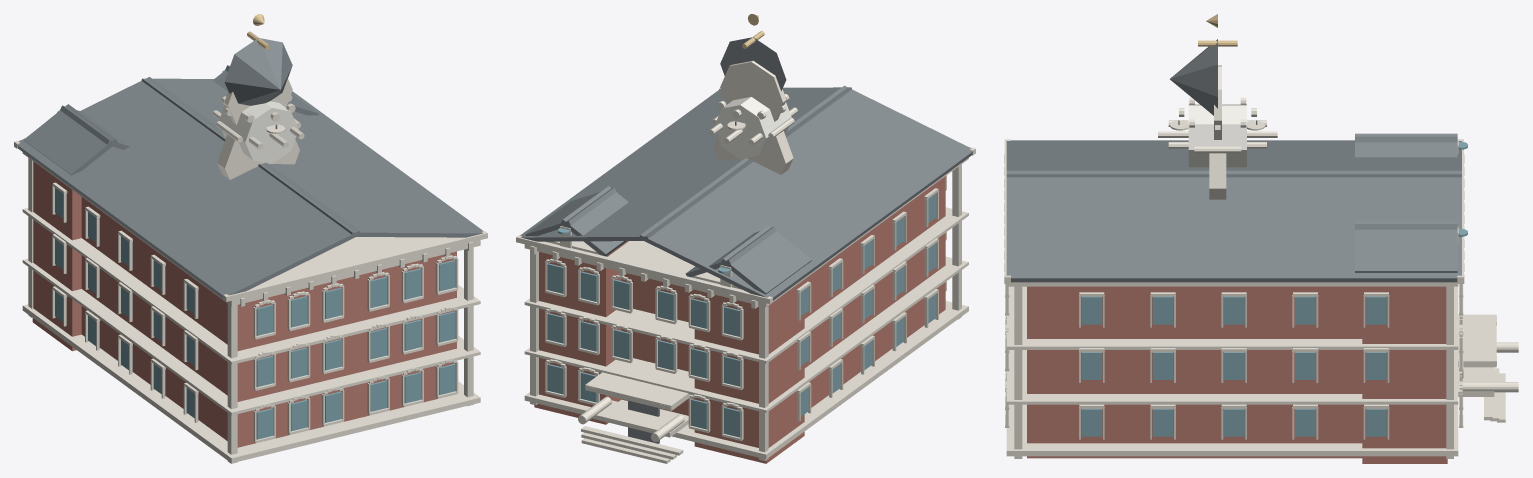
File: courthouse.glb
The picture shows the model from 3 angles, left to right: view 1: azimuth 30°, elevation 25°; view 2: azimuth 150°, elevation 25°; view 3: azimuth 270°, elevation 25°; orthographic projection. The views are drawn at different scales.
Parts seen in each view (by area): view 1: courthouse_roof, courthouse_wood, courthouse_red, courthouse_glass, courthouse_metal; view 2: courthouse_roof, courthouse_wood, courthouse_red, courthouse_glass, courthouse_metal; view 3: courthouse_roof, courthouse_red, courthouse_wood, courthouse_glass, courthouse_metal.
Boxes of the visible parts, x1=… form: courthouse_roof: x1=17, y1=38, x2=483, y2=298; courthouse_wood: x1=14, y1=78, x2=487, y2=463; courthouse_red: x1=32, y1=161, x2=456, y2=447; courthouse_glass: x1=55, y1=70, x2=455, y2=439; courthouse_metal: x1=219, y1=101, x2=298, y2=163; courthouse_roof: x1=520, y1=37, x2=972, y2=443; courthouse_wood: x1=516, y1=60, x2=975, y2=463; courthouse_red: x1=534, y1=176, x2=945, y2=463; courthouse_glass: x1=547, y1=193, x2=935, y2=437; courthouse_metal: x1=714, y1=97, x2=791, y2=159; courthouse_roof: x1=1006, y1=39, x2=1463, y2=377; courthouse_red: x1=1027, y1=286, x2=1447, y2=463; courthouse_wood: x1=1004, y1=65, x2=1518, y2=458; courthouse_glass: x1=1081, y1=141, x2=1467, y2=436; courthouse_metal: x1=1188, y1=104, x2=1246, y2=167.
Bounding box in the file's own units: 22.98 × 29.95 × 36.17.
